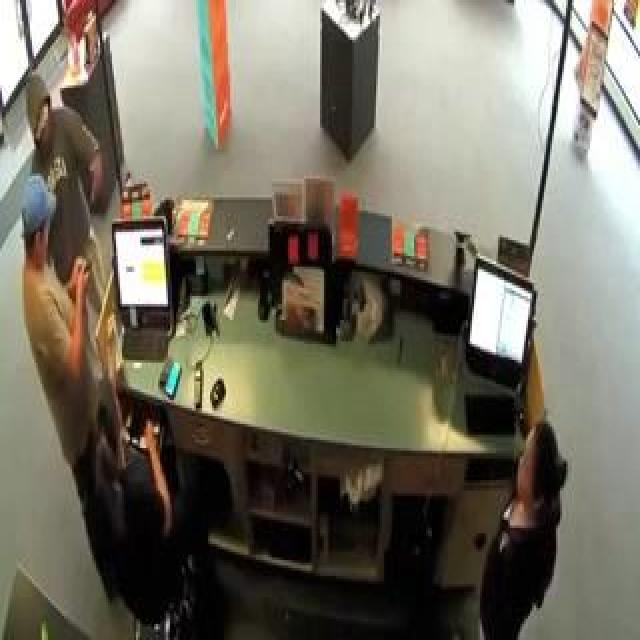high_con: (15, 74, 63, 154)
low_con: (18, 178, 54, 282)
no_con: (511, 420, 568, 519), (88, 372, 128, 478)
